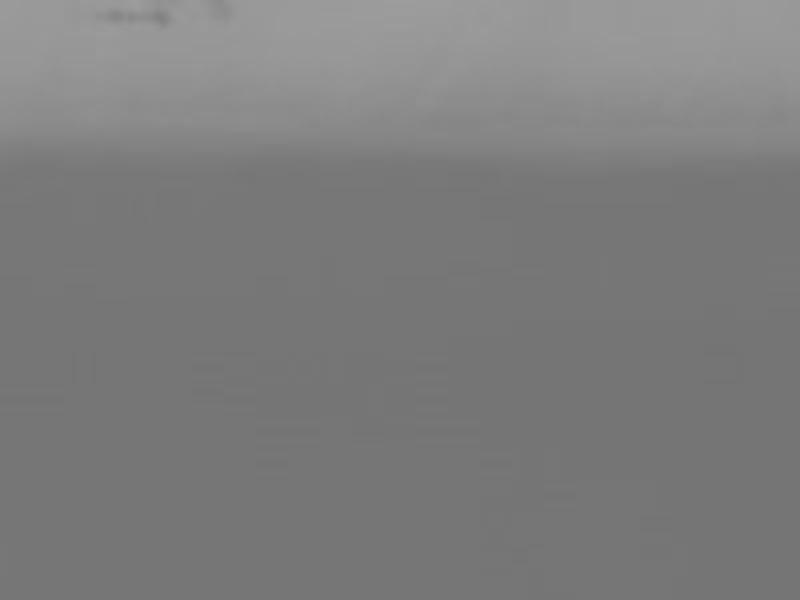defect: (201, 1, 234, 20), (146, 7, 170, 27), (126, 9, 146, 24), (104, 7, 122, 23)
